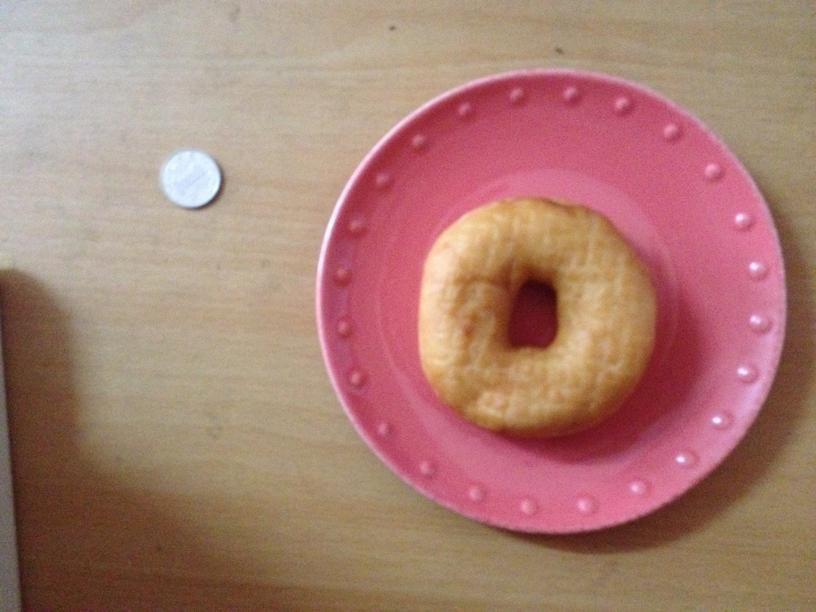coin: (160, 151, 221, 209)
doughnut: (418, 200, 656, 432)
